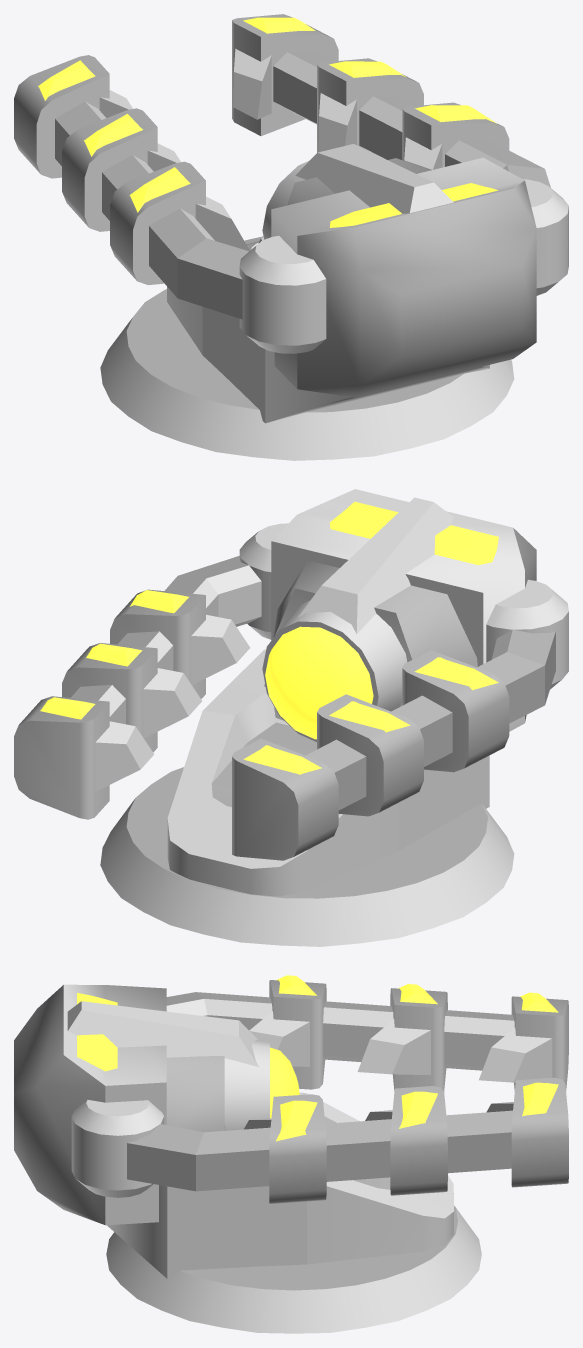
File: SM_Module_TurretHead_Laser_T2.fbx
3 renders of one model, top to bottom at view 1: azimuth 30°, elevation 25°; view 2: azimuth 150°, elevation 25°; view 3: azimuth 270°, elevation 25°, orthographic. The views are drawn at different scales.
Visible parts, largest first — view 1: SM_Module_TurretHead_Laser_T2; view 2: SM_Module_TurretHead_Laser_T2; view 3: SM_Module_TurretHead_Laser_T2.
Part boxes in pixels (bbox=[...]): SM_Module_TurretHead_Laser_T2: bbox=[14, 14, 568, 460]; SM_Module_TurretHead_Laser_T2: bbox=[14, 489, 568, 946]; SM_Module_TurretHead_Laser_T2: bbox=[14, 975, 568, 1333].
Bounding box in the file's own units: 2.66 × 3.74 × 1.85.
